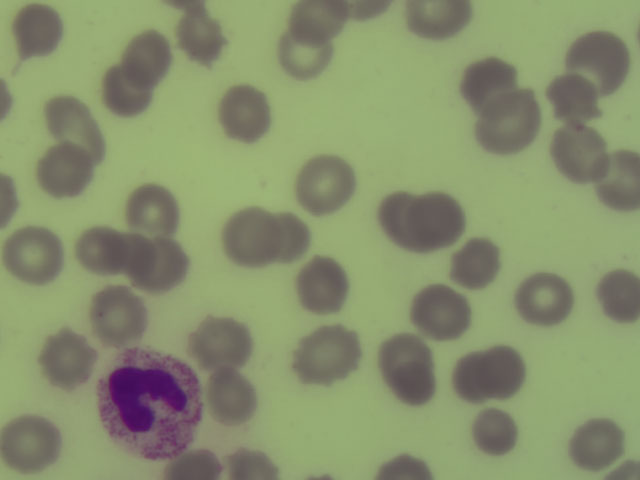RBC: (52, 92, 108, 162), (301, 325, 363, 386), (208, 363, 263, 429), (45, 325, 97, 393), (6, 414, 63, 476), (485, 93, 541, 153), (230, 203, 283, 265), (413, 279, 468, 338), (568, 417, 627, 471), (302, 254, 351, 318), (555, 121, 608, 180), (12, 225, 62, 286), (581, 25, 628, 89), (416, 186, 463, 248), (221, 82, 269, 142), (302, 156, 352, 213), (104, 66, 157, 119), (129, 189, 186, 238), (100, 291, 152, 344), (199, 317, 249, 372), (553, 71, 609, 120), (405, 4, 474, 43), (522, 276, 572, 328), (598, 150, 640, 211), (376, 332, 433, 376), (283, 28, 333, 78), (20, 6, 64, 61), (472, 408, 521, 457), (290, 2, 350, 42), (487, 340, 527, 400), (148, 240, 190, 295), (114, 229, 155, 284), (269, 208, 309, 264), (459, 236, 502, 288), (464, 60, 510, 107), (183, 15, 229, 62), (600, 269, 640, 322), (383, 190, 419, 248), (134, 31, 170, 86), (44, 149, 87, 194), (395, 368, 438, 410), (457, 352, 490, 402), (377, 450, 431, 480), (86, 229, 123, 272), (231, 446, 276, 480), (168, 456, 219, 480), (2, 172, 23, 225), (348, 1, 390, 25), (4, 73, 15, 124), (303, 472, 340, 480)
WBC: (103, 345, 201, 463)
